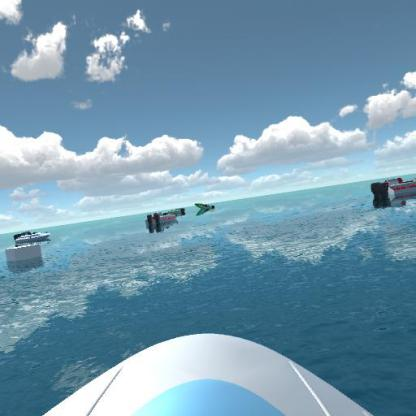usv0: (193, 199, 217, 215), (162, 204, 186, 216)
usv1: (8, 228, 54, 247)
usv3: (366, 173, 416, 208), (144, 209, 178, 232)
